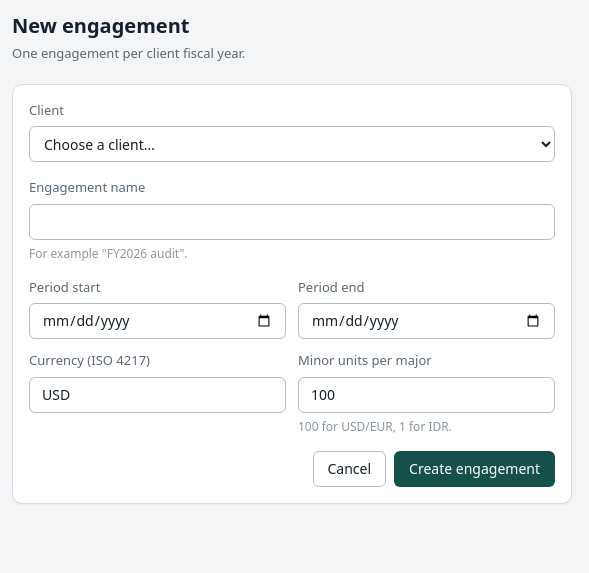
Scenario: EngagementCreatePage › blocks creation when the period is backwards
The image size is (589, 573).
Select "Choose a client…" in the dropdown labelled "Client" at (292, 144), box [29,126,555,162]
Type "FY2026 audit" into the field labelled "Engagement name" at (292, 222), box [29,204,555,240]
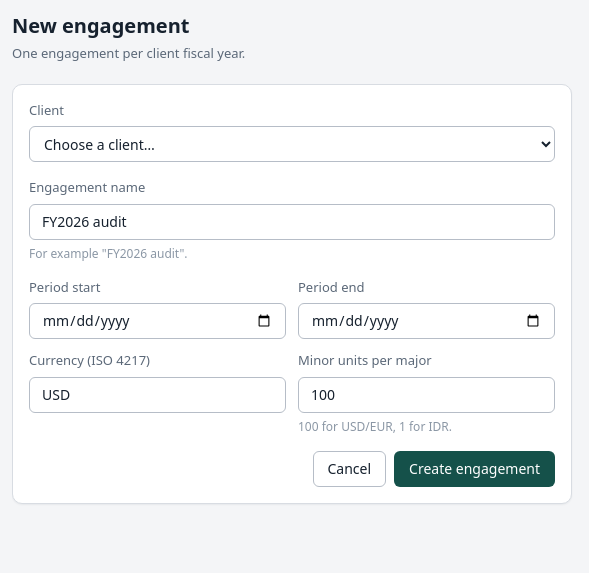
Click the button "Create engagement" at (475, 468), box [394,450,555,486]
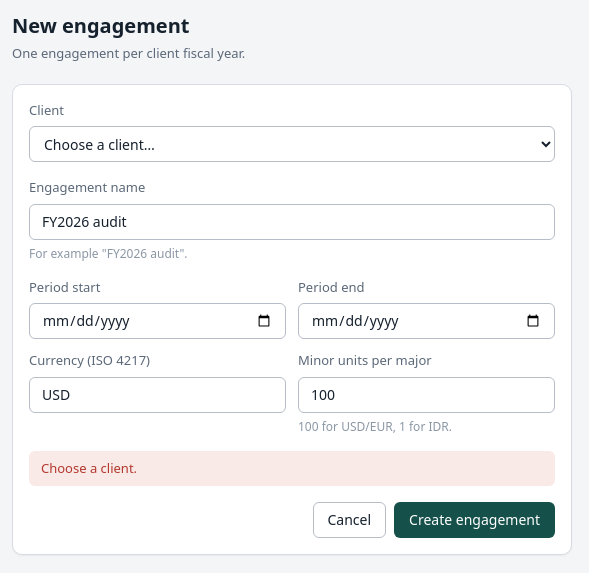
Expected: the text "Choose a client." is shown, [29,450,555,486]
